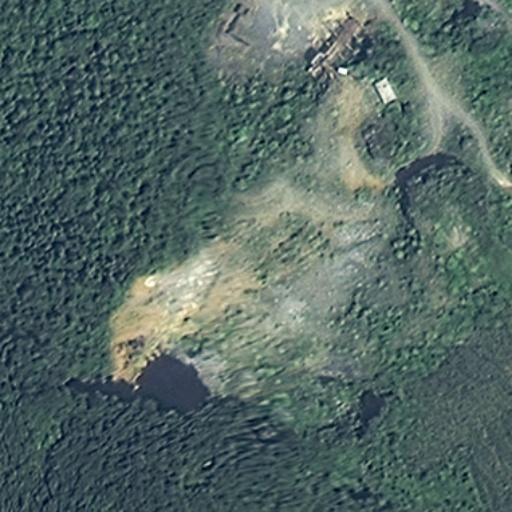landslide: (108, 226, 271, 379)
